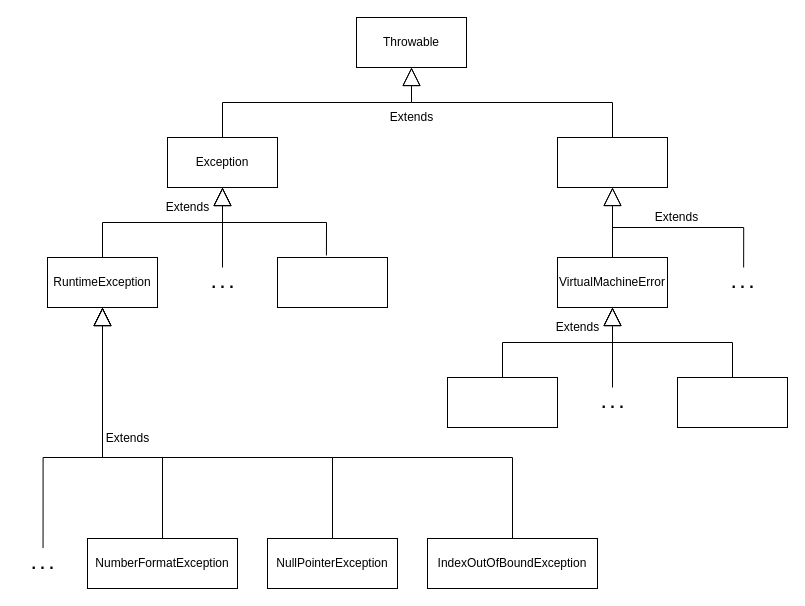
Image size: 805x606. Some labels were removed from this diagram. The shapes that lost their labels are listed below. From the top down, each one's centre as x and y in pixels, then its label:
(x=612, y=162): Error
(x=332, y=282): IOException
(x=502, y=402): StackOverflowError
(x=732, y=402): OutOfMemoryError
